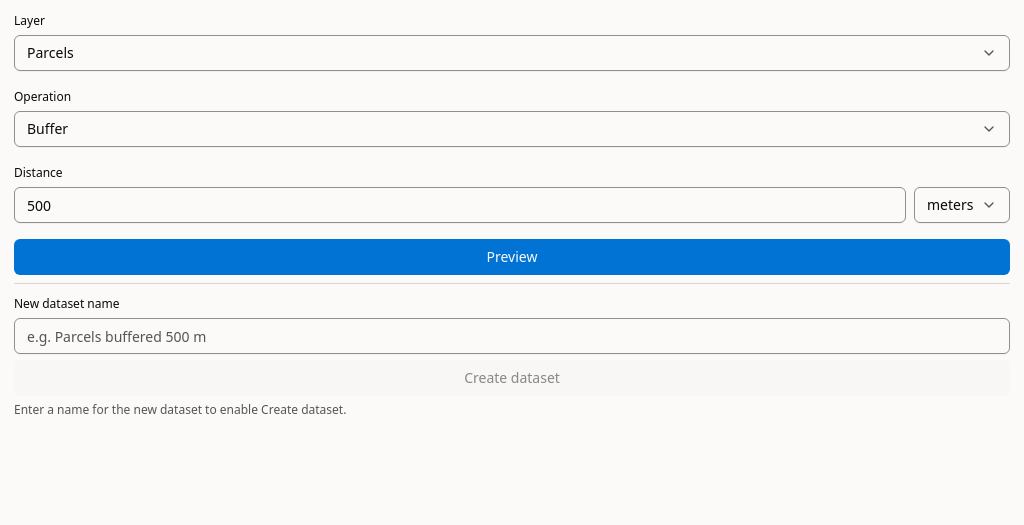
Test: AnalysisPanel › layer filters › blocks a run whose mask layer filter reads an array column
Click the dropdown labelled "Buffer".
click(48, 128)  # box [14,111,1010,147]
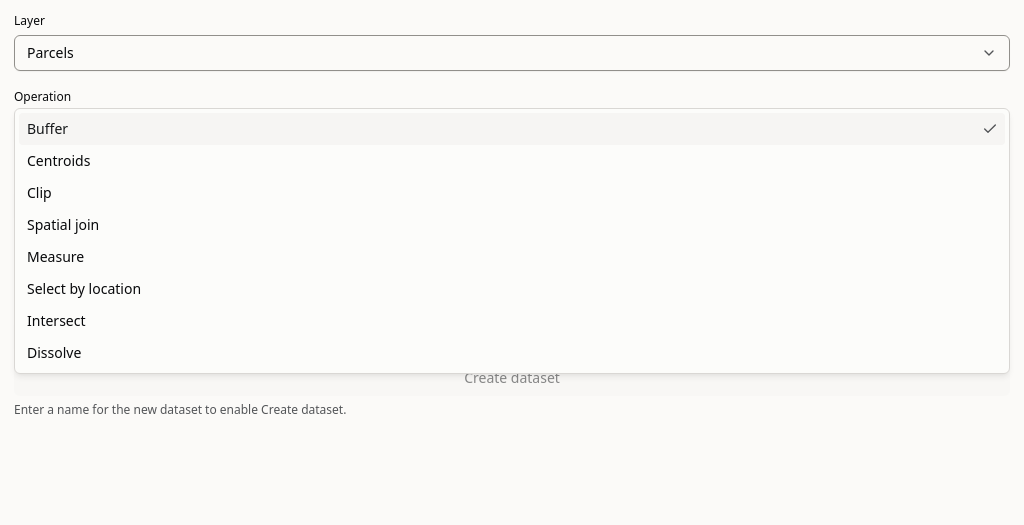
Click the option "Clip".
click(39, 192)  # box [27,183,52,202]
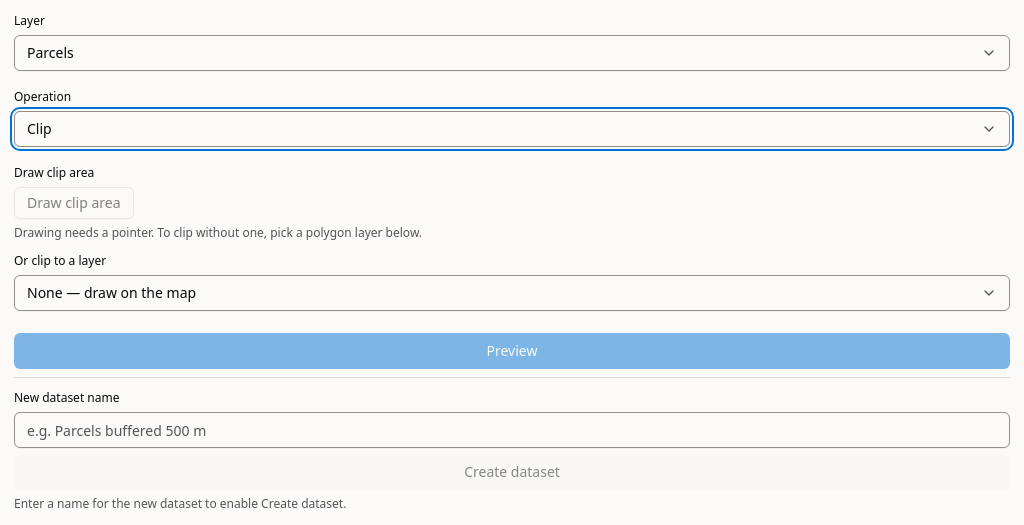
Click the dropdown named "Or clip to a layer".
click(112, 292)  # box [14,275,1010,311]
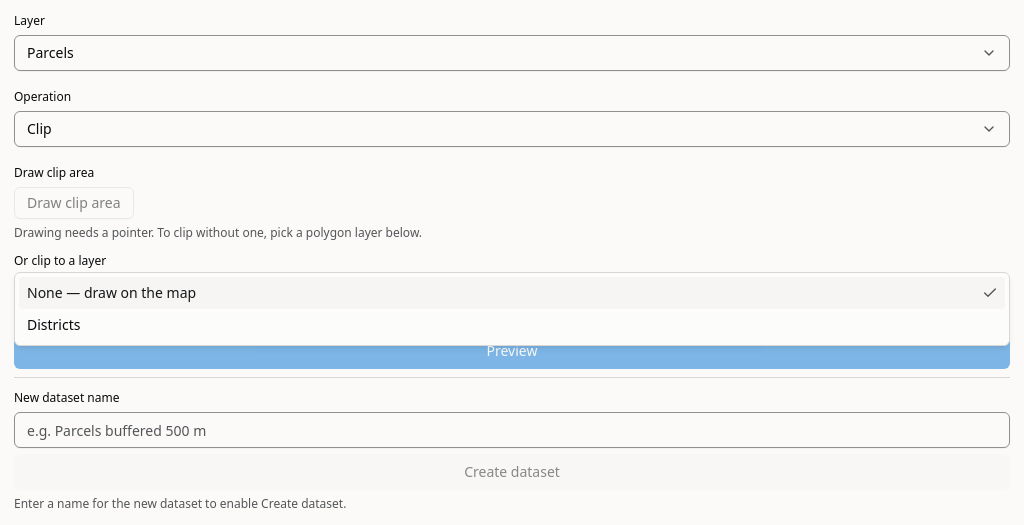
Click the option "Districts".
click(54, 324)  # box [27,315,80,334]
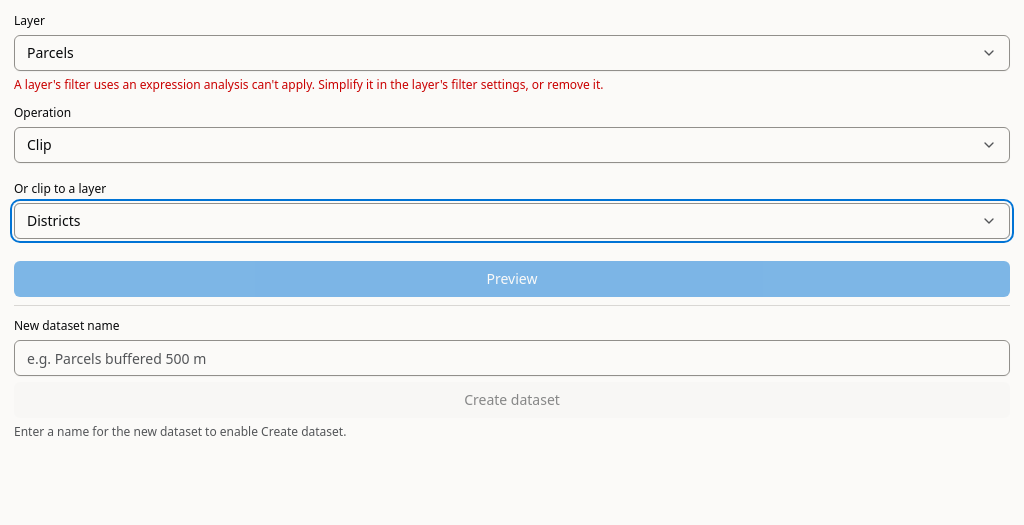
Result: the button "Preview" is disabled at [14,261,1010,297]
Result: the text "A layer's filter uses an expression analysis can't apply. Simplify it in the layer's filter settings, or remove it." is shown at [14,76,604,93]
